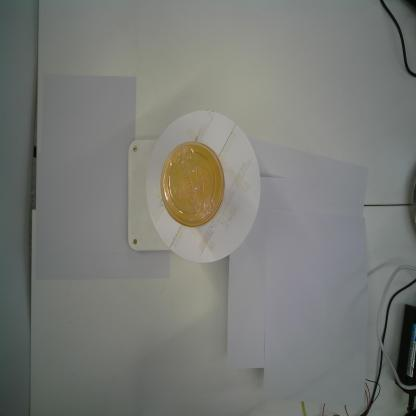Instant Drink: (160, 140, 225, 229)
